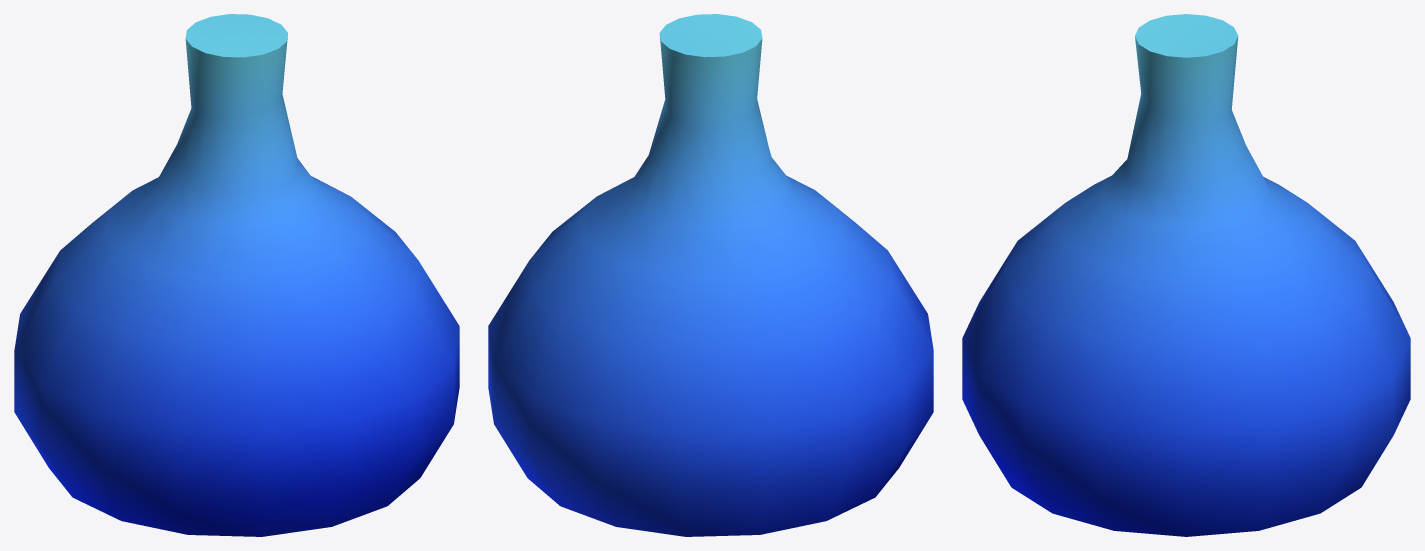
Rendered from ManaFill.fbx.
3 views of the same model, side by side, from view 1: azimuth 30°, elevation 25°; view 2: azimuth 150°, elevation 25°; view 3: azimuth 270°, elevation 25° (orthographic).
Parts seen in each view (by area): view 1: Potion Blue; view 2: Potion Blue; view 3: Potion Blue.
Boxes of the visible parts, bbox=[...] form: Potion Blue: bbox=[14, 14, 459, 536]; Potion Blue: bbox=[488, 14, 933, 536]; Potion Blue: bbox=[962, 14, 1410, 536].
Bounding box in the file's own units: 18.98 × 19.67 × 18.98.
